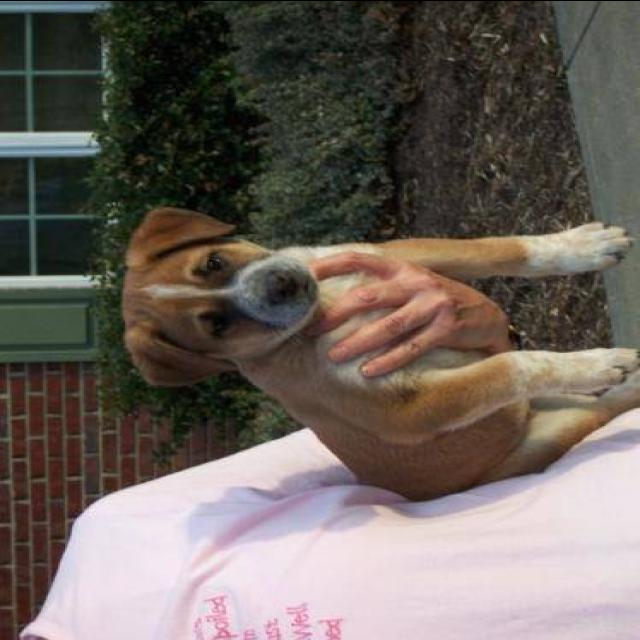dog: (99, 176, 636, 512)
